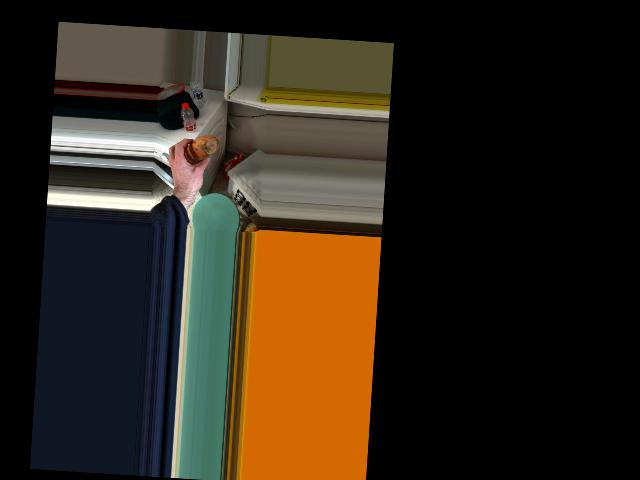sweet_potato: (185, 132, 218, 165)
